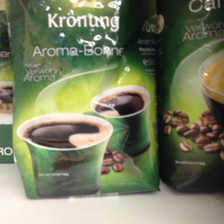coffee: (5, 1, 159, 199), (158, 1, 222, 193)
